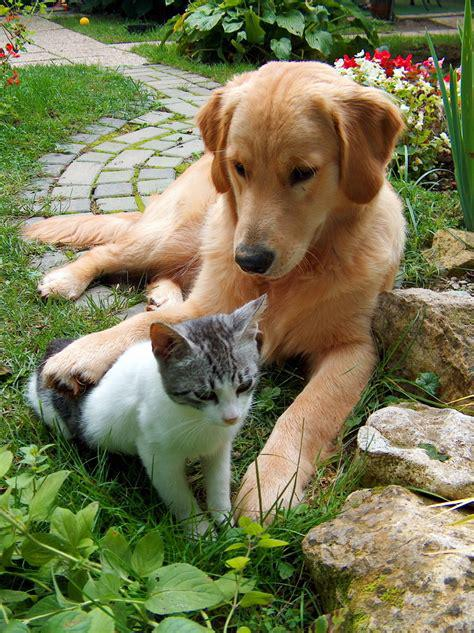cat: (29, 294, 267, 537)
dog: (26, 61, 403, 530)
